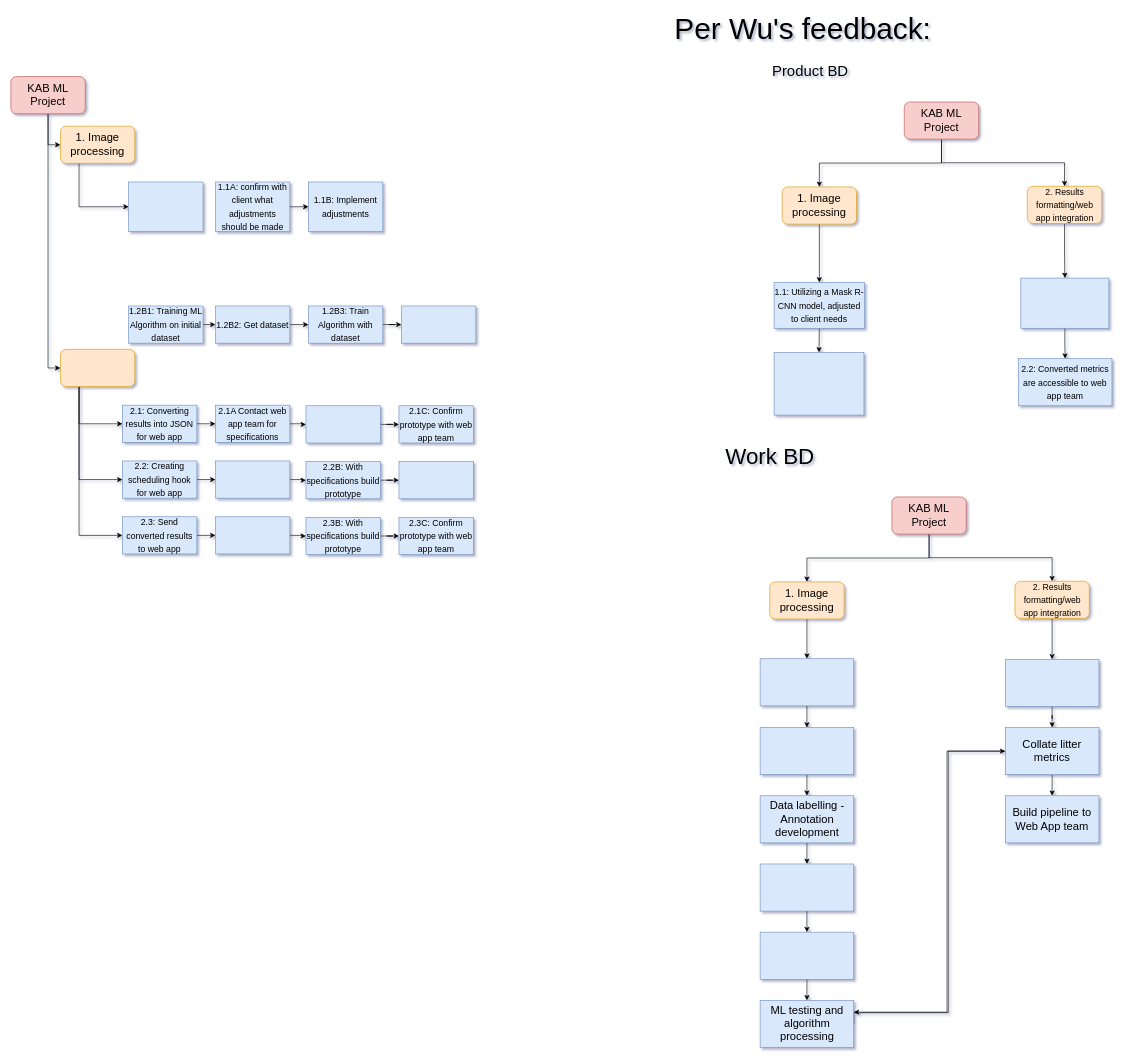
Image size: 1127x1062. Some labels were removed from this diagram. Here are the shapes that lost their labels. From the top down, the box of each, then its label:
(128, 181, 203, 232): 1.1: Adjusting TACO according to Client specifications
(1020, 277, 1109, 328): 2.1: Processed Image metrics converted into JSON
(401, 305, 476, 343): 1.2B4: Test algorithm with new images
(60, 349, 135, 387): 2. Data formatting/web app integration
(773, 352, 864, 415): 1.2: Machine learning trained on acquired Google Street image datasets
(305, 405, 380, 443): 2.1B: With specifications build prototype
(215, 460, 290, 498): 2.2A Contact web app team for specifications
(398, 461, 473, 499): 2.2C: Confirm prototype with web app team
(215, 516, 290, 554): 2.3A Contact web app team for specifications
(760, 658, 854, 706): ML environment development and model utilization
(1005, 659, 1099, 706): Design input/JSON output format
(760, 727, 854, 775): Collect Google Street image datasets
(760, 863, 854, 911): Python script development
(760, 932, 854, 979): ML Training
